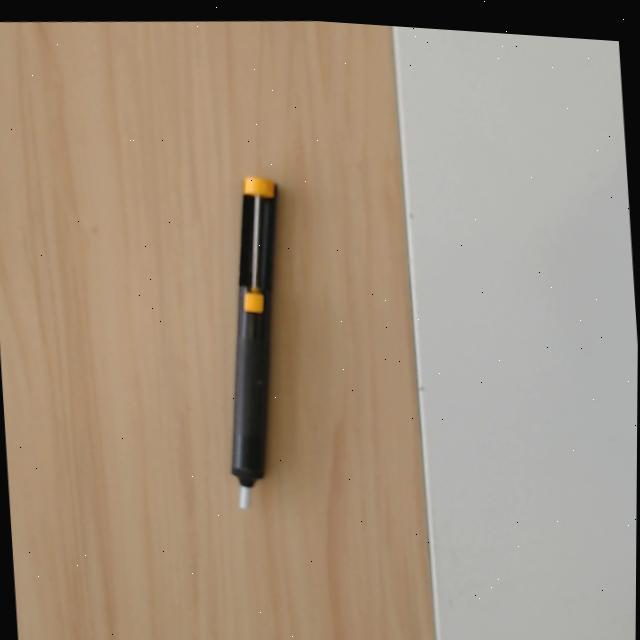Desoldering-Pump: (229, 177, 278, 510)
